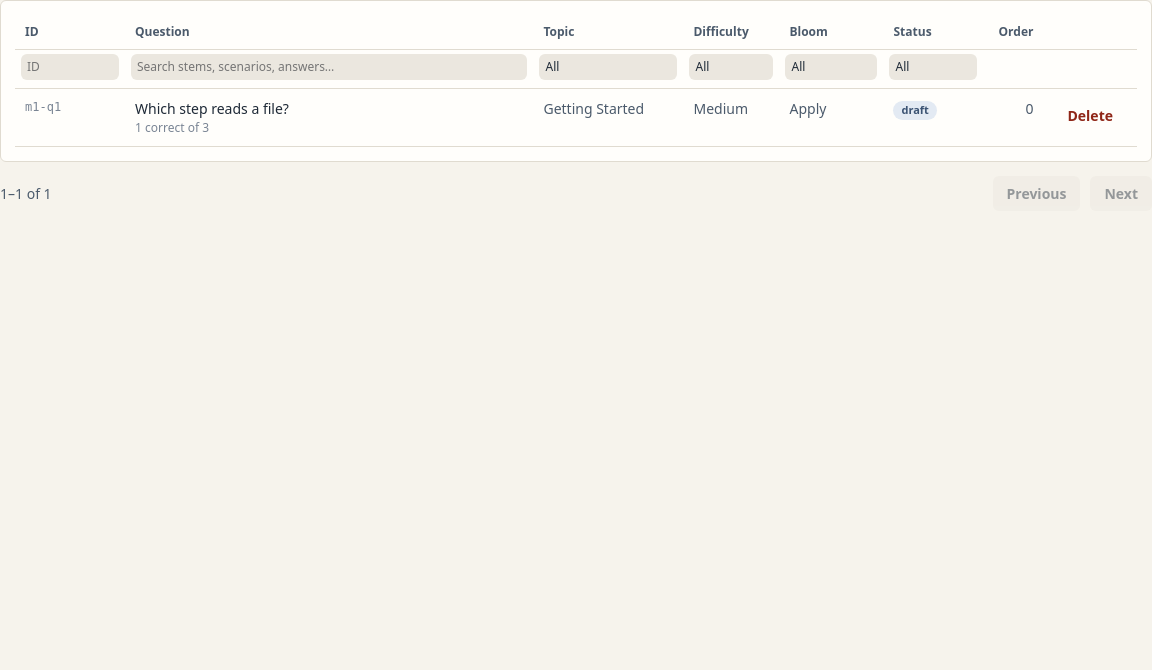
Test case: saving a question › says it was saved, and the message survives the Bank refreshing the row
The image size is (1152, 670).
Click the text "Which step reads a file?" at x=329, y=118, box [125,88,534,146]
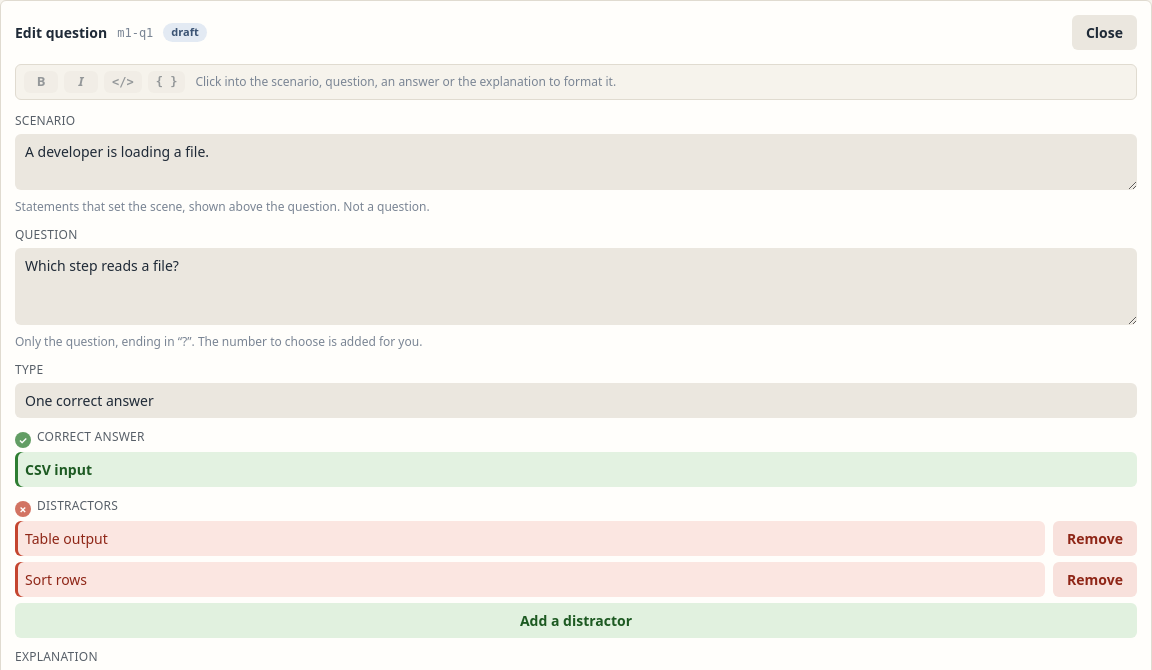
Type " today" into the text box showing "Which step reads a file?" at x=576, y=286, box [15,248,1137,325]
(page scrolled)
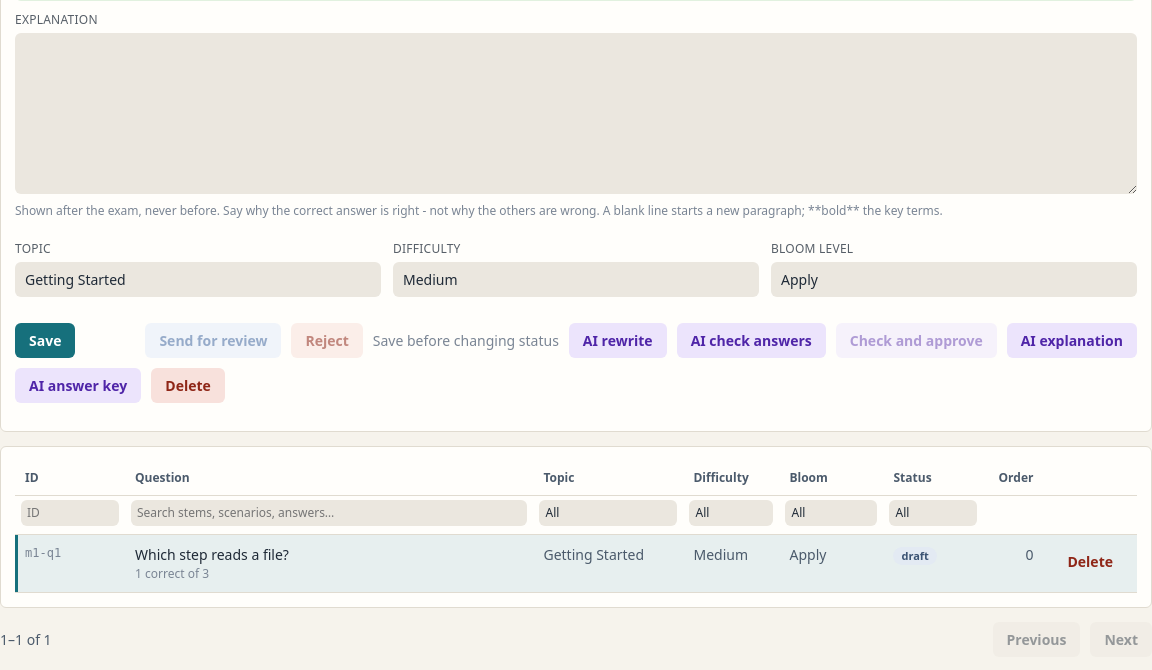
Click the button "Save" at x=45, y=340, box [15,323,75,358]
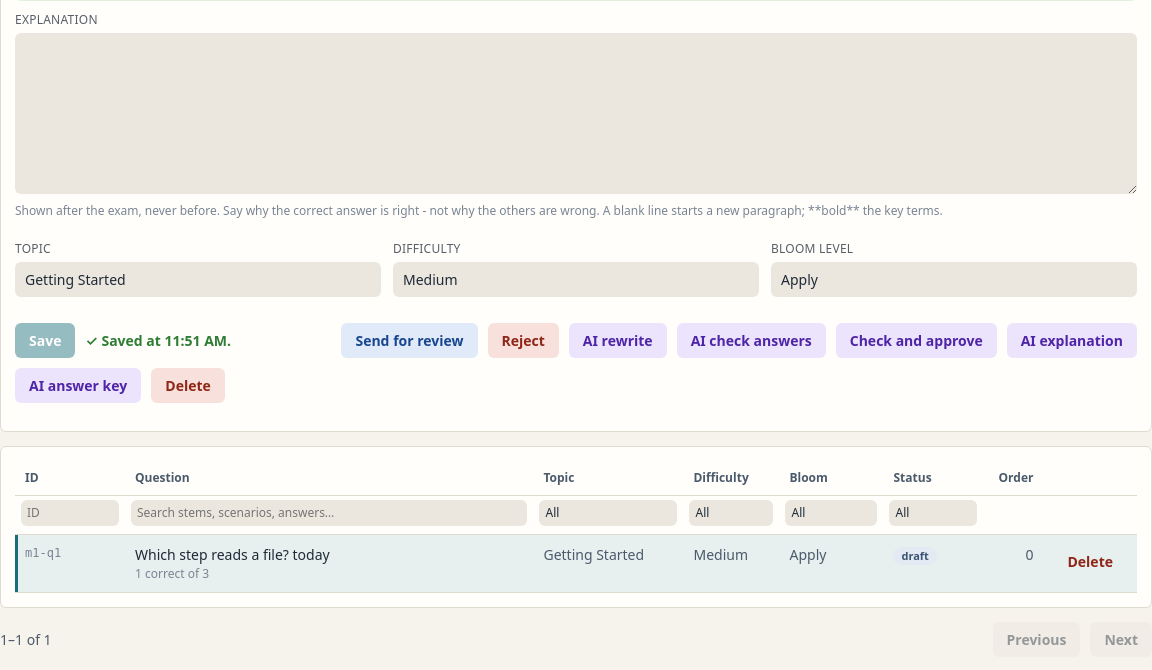
Now the message reads "✓ Saved at 11:51 AM.", box [101,331,231,350]
Now the message shows "Saved at", box [101,331,231,350]
